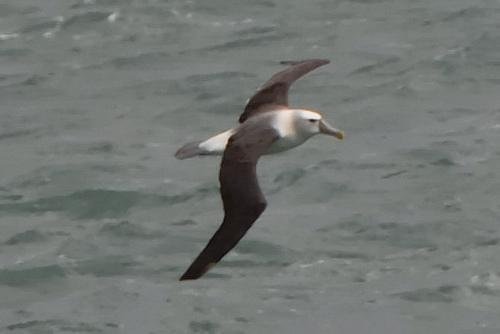bird: (168, 56, 345, 288)
